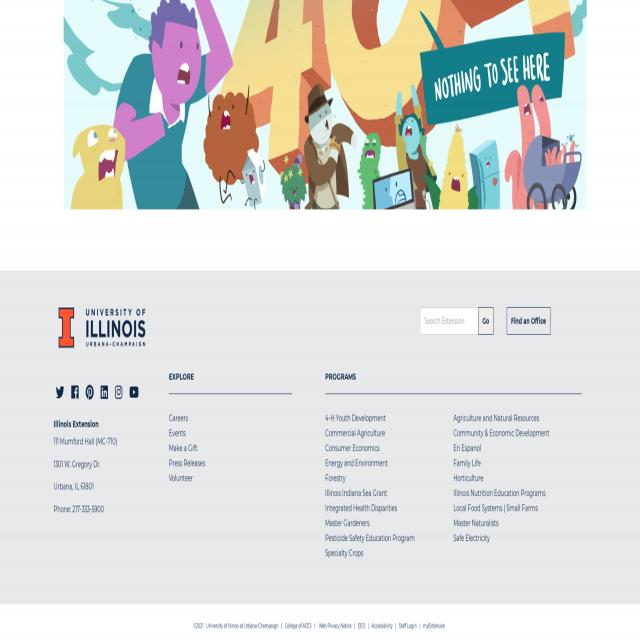button: (59, 307, 145, 347), (507, 307, 550, 335), (478, 307, 493, 335), (129, 384, 139, 402), (85, 384, 94, 402), (56, 384, 64, 402), (71, 384, 79, 402), (100, 384, 108, 402), (115, 384, 122, 402)
field: (420, 307, 478, 335)
